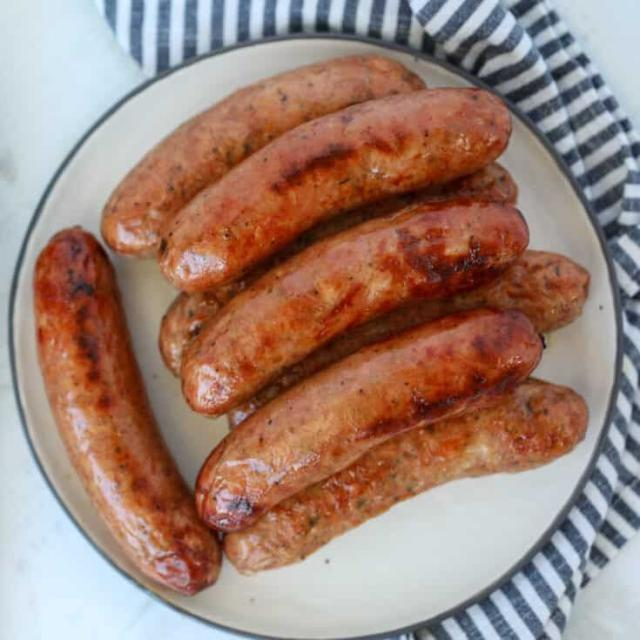sausage: (196, 309, 542, 532), (159, 163, 517, 376), (182, 199, 528, 416), (159, 89, 511, 292), (224, 380, 587, 573), (34, 228, 221, 594), (102, 55, 424, 256), (229, 251, 589, 428)
